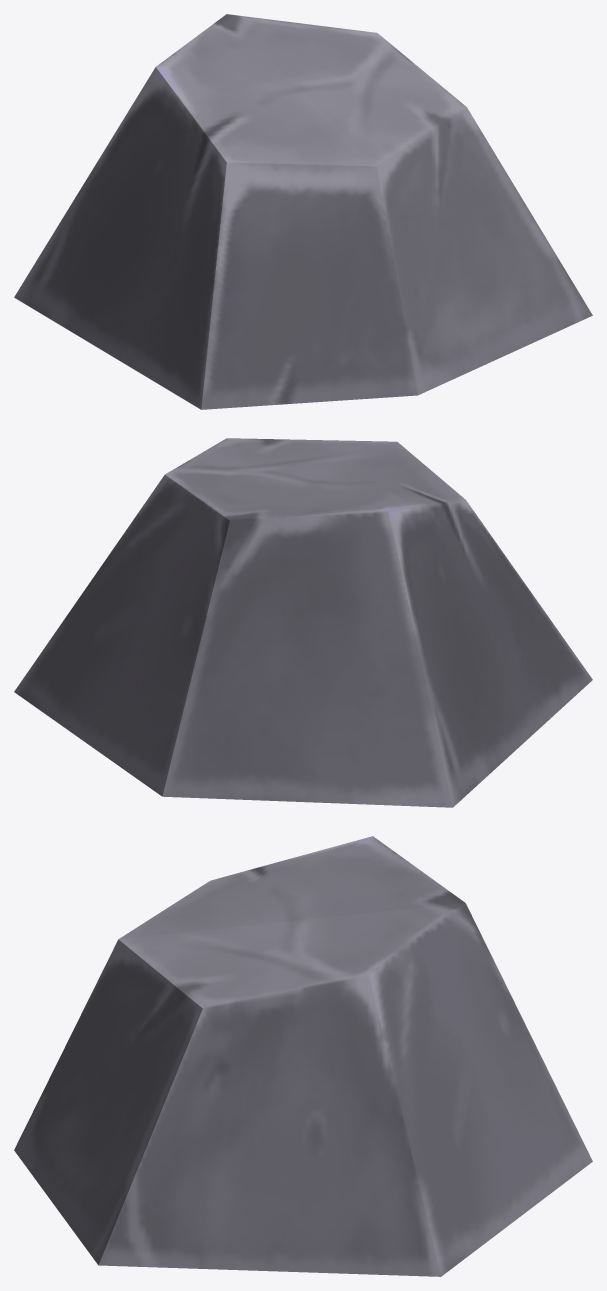
The model's file is Stone_little1.FBX.
3 renders of one model, top to bottom at view 1: azimuth 30°, elevation 25°; view 2: azimuth 150°, elevation 25°; view 3: azimuth 270°, elevation 25°, orthographic. The views are drawn at different scales.
Visible parts, largest first — view 1: Object106; view 2: Object106; view 3: Object106.
Boxes of the visible parts, box(x1,y1,x2,y2) form: Object106: box(14, 14, 592, 409); Object106: box(14, 438, 592, 807); Object106: box(14, 836, 592, 1276).
Bounding box in the file's own units: 12.76 × 6.55 × 13.22.
